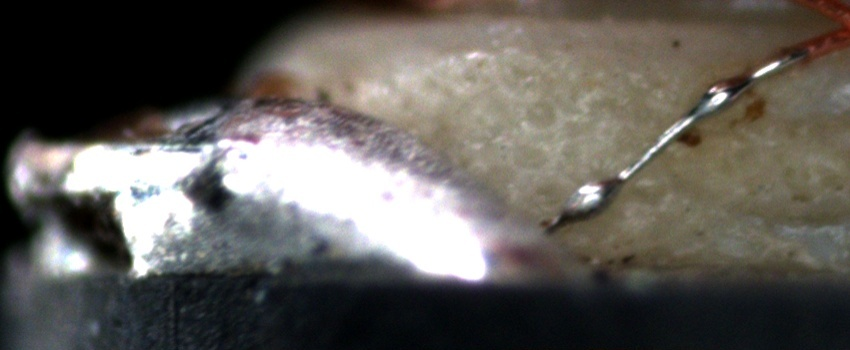TB: (554, 168, 626, 228), (697, 72, 743, 115)
TS: (552, 46, 806, 231)
TTCW: (535, 24, 841, 235)
